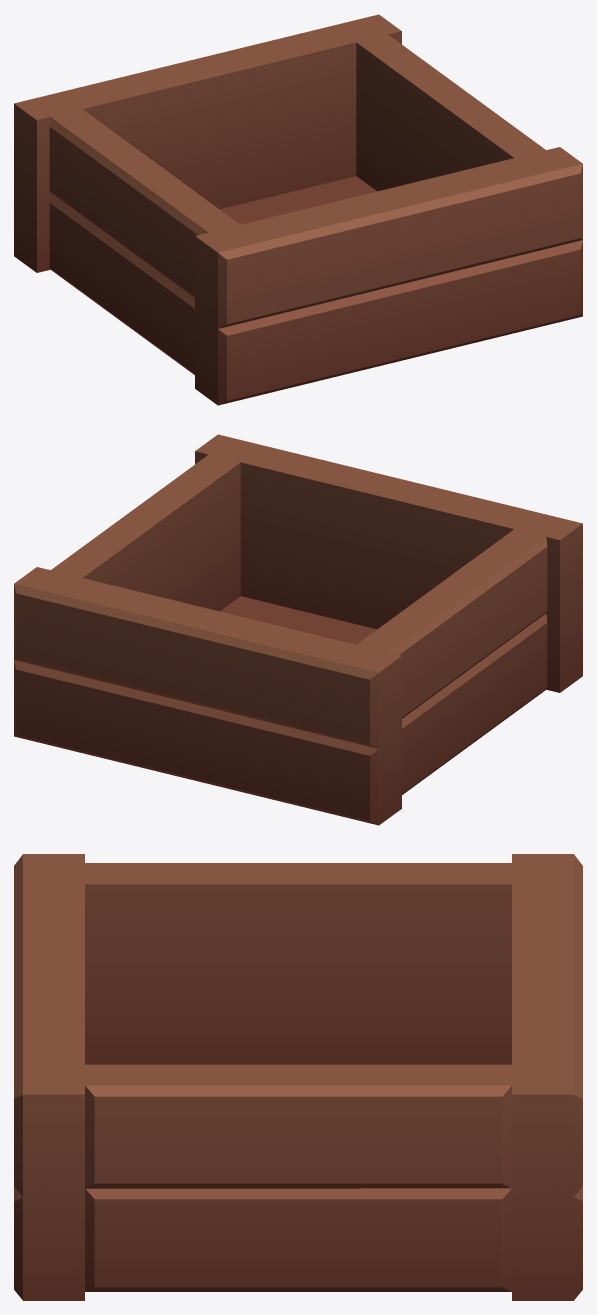
The model's file is Crate.glb.
3 renders of one model, top to bottom at view 1: azimuth 30°, elevation 25°; view 2: azimuth 150°, elevation 25°; view 3: azimuth 270°, elevation 25°, orthographic. The views are drawn at different scales.
Visible parts, largest first — view 1: crate; view 2: crate; view 3: crate.
Boxes of the visible parts, bbox=[...] form: crate: bbox=[14, 14, 582, 405]; crate: bbox=[14, 434, 582, 825]; crate: bbox=[14, 854, 582, 1300].
Size of the model in its own units: 2 by 0.8 by 2.
